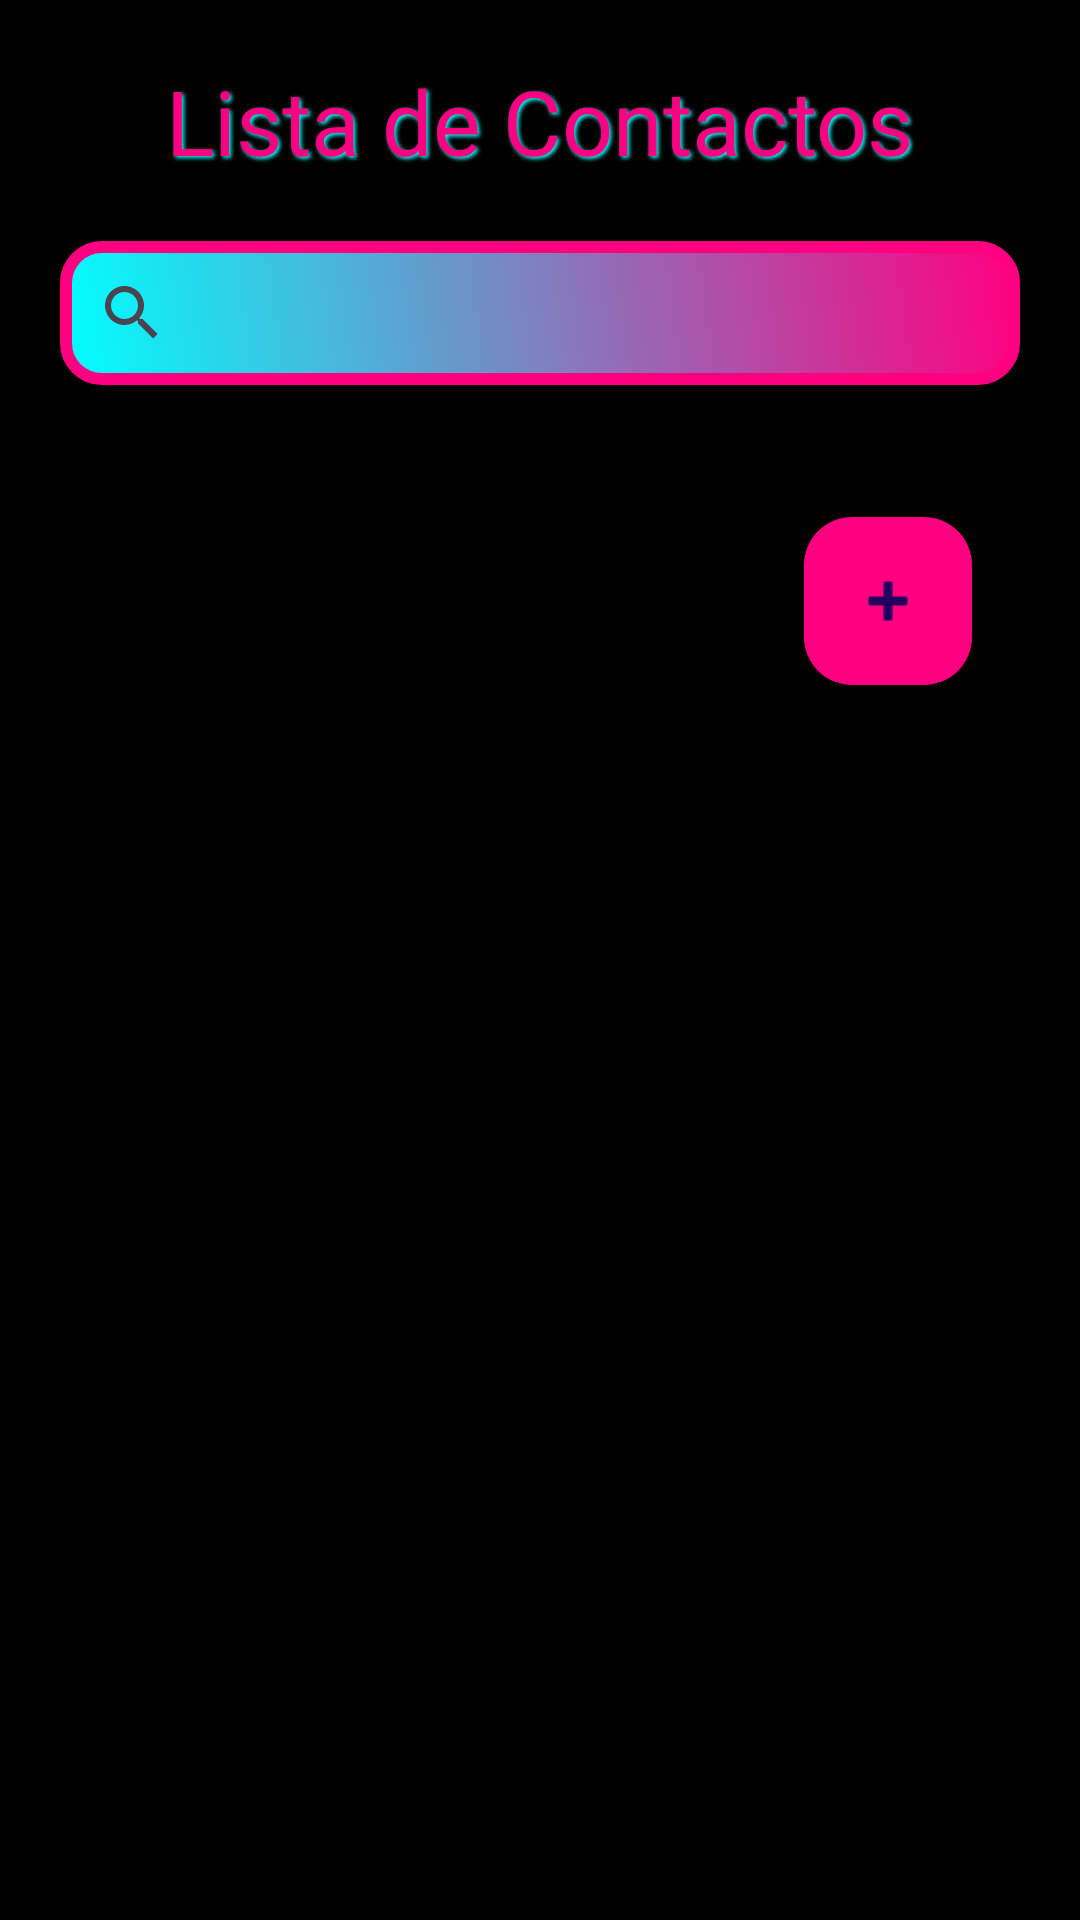

Where icons sit on this 1080×1920 app screen, as rect(x1, y1, x2, y2):
Agregar contacto: rect(804, 517, 972, 685)
